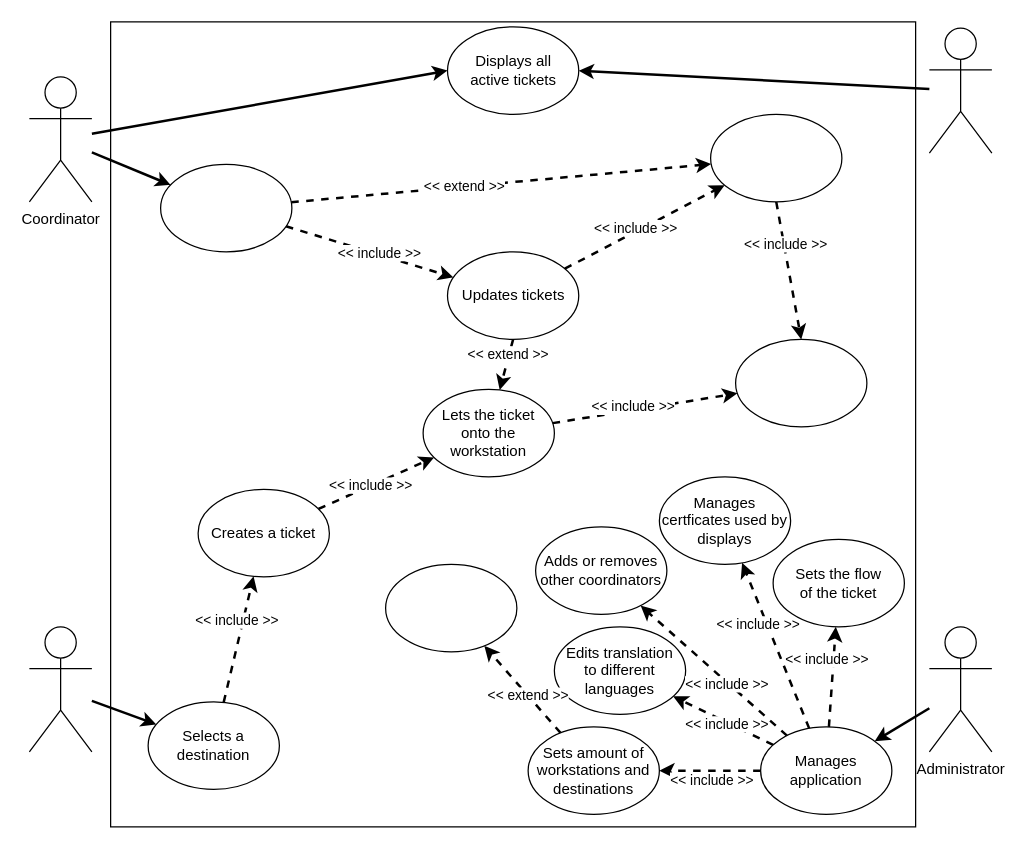
The diagram is 1026 pixels wide and 849 high, and some of its shapes have lost their labels. The shapes that lost their labels are listed below. From the top down, each one's box as (x1, y1, x2, y2) in pixels, then its label:
(928, 27, 992, 153): Display
(709, 113, 842, 202): Ends tickets
(159, 163, 292, 252): Manages tickets
(734, 338, 867, 427): Ends process
(384, 563, 517, 652): Assigns workstations to destinations
(28, 626, 92, 752): User
